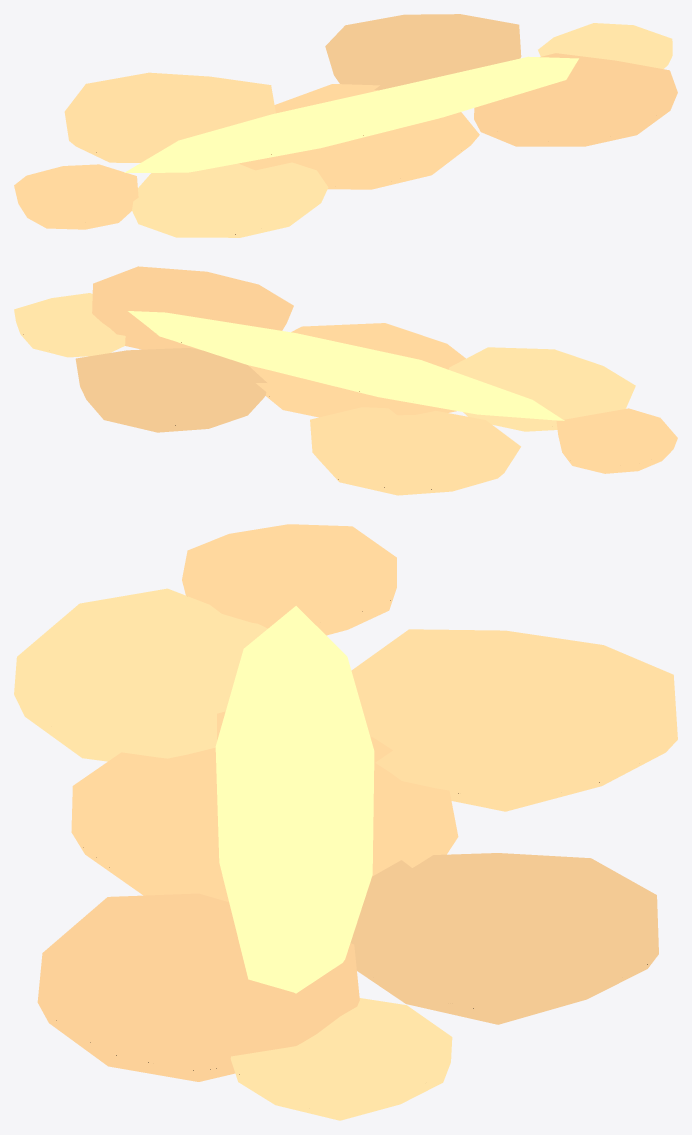
Rendered from terrain_soil_island.gltf.
3 views of the same model, one above another, from view 1: azimuth 30°, elevation 25°; view 2: azimuth 150°, elevation 25°; view 3: azimuth 270°, elevation 25° (orthographic). The views are drawn at different scales.
Parts seen in each view (by area): view 1: terrain_soil_island; view 2: terrain_soil_island; view 3: terrain_soil_island.
Boxes of the visible parts, x1,y1,x2,y2 form: terrain_soil_island: [14, 14, 677, 237]; terrain_soil_island: [14, 266, 677, 495]; terrain_soil_island: [14, 524, 677, 1120].
Size of the model in its own units: 3.65 by 0.1278 by 1.79.
